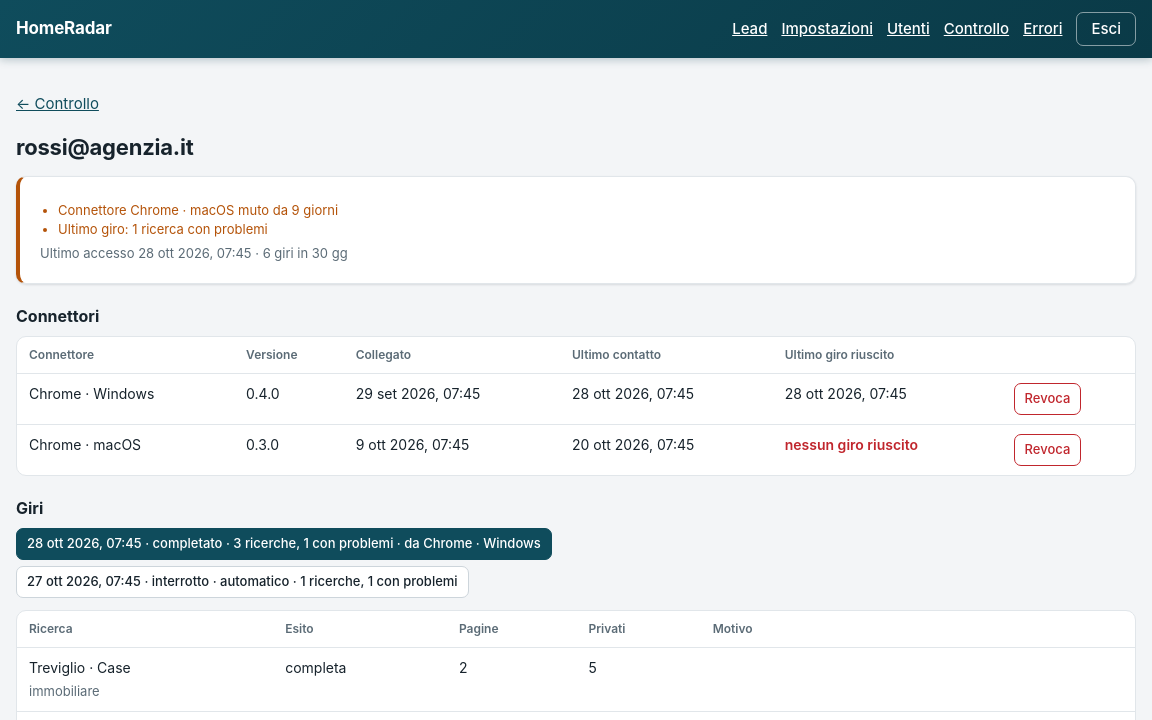
scheda dell'agente › connettori, ultimo giro con le ricerche, giri precedenti ed errori
The width and height of the screenshot is (1152, 720).
Check: the text "Chrome · macOS" is shown, box [17,424,234,475]
Check: the text "nessun giro riuscito" is shown, box [785,436,918,453]
Click the button "interrotto · automatico": (242, 582) [16,566,469,598]
(page scrolled)
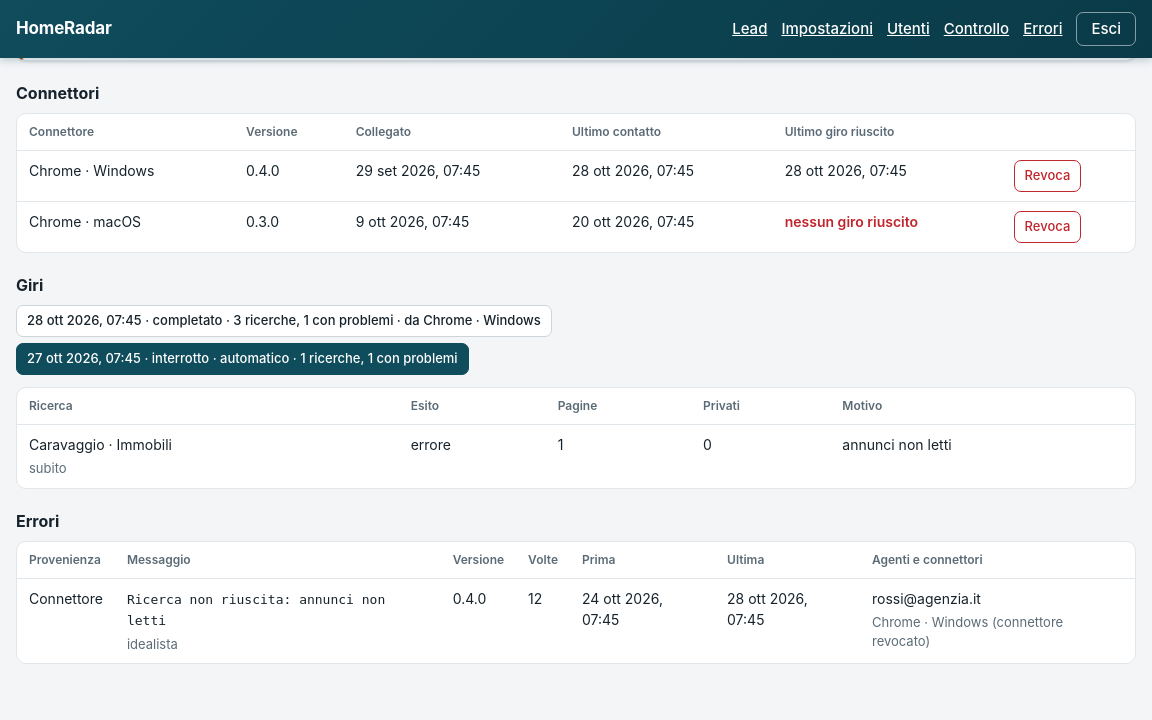
Check: the text "Ricerca non riuscita: annunci non letti" is shown, box [127,592,393,628]
Check: the text "annunci non letti" is shown, box [830,424,1135,488]
